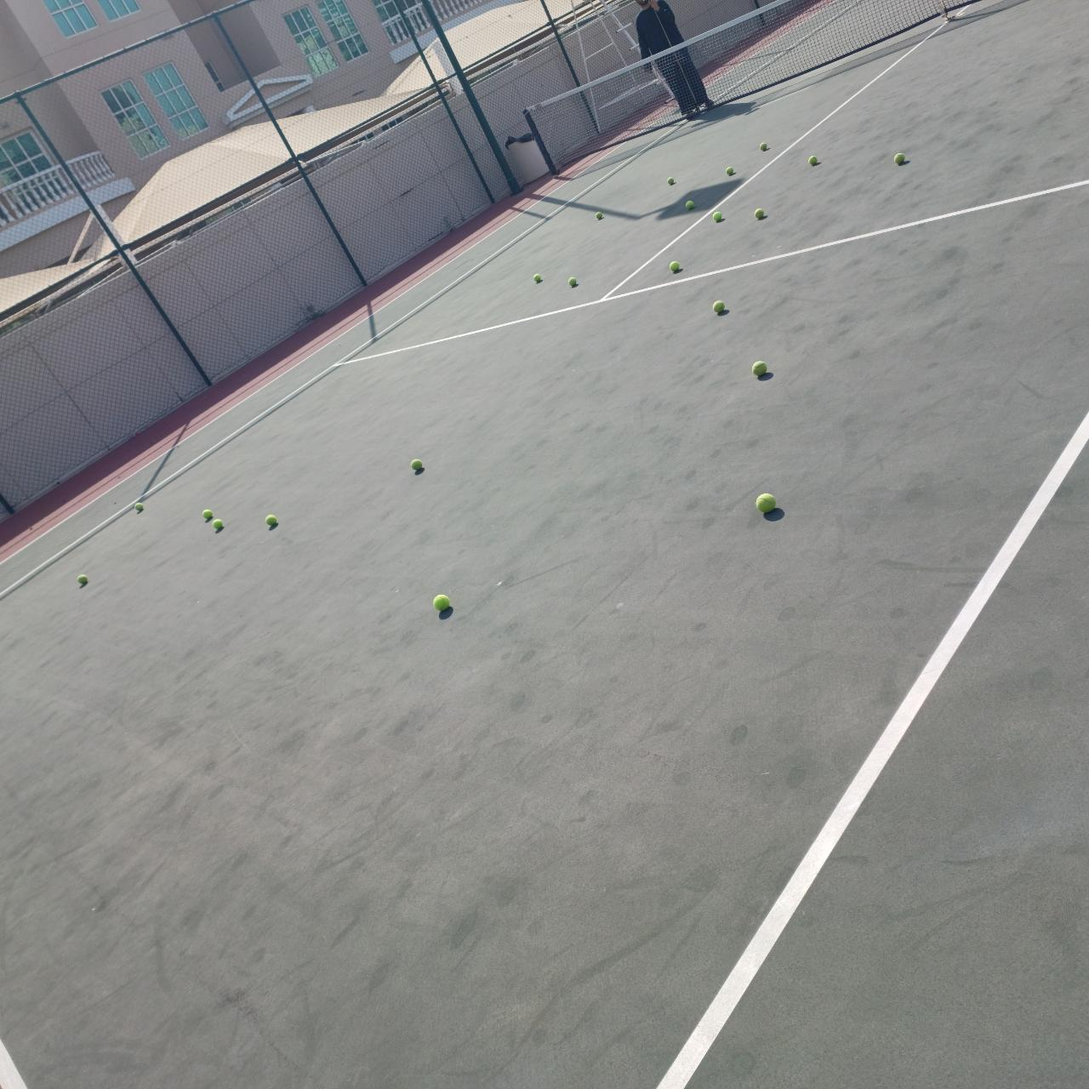tennis-ball: (755, 492, 776, 513), (431, 594, 450, 611), (751, 360, 767, 376), (409, 456, 423, 472), (265, 513, 278, 526), (713, 300, 725, 313), (894, 153, 905, 165), (77, 574, 88, 585), (212, 519, 223, 530), (669, 261, 680, 272), (754, 208, 764, 219), (808, 155, 818, 166), (202, 509, 212, 519), (713, 211, 722, 222), (568, 277, 577, 287), (135, 502, 144, 511), (533, 273, 541, 282), (686, 200, 694, 209), (759, 142, 767, 151), (726, 167, 734, 175), (596, 211, 603, 220), (667, 177, 674, 184)
